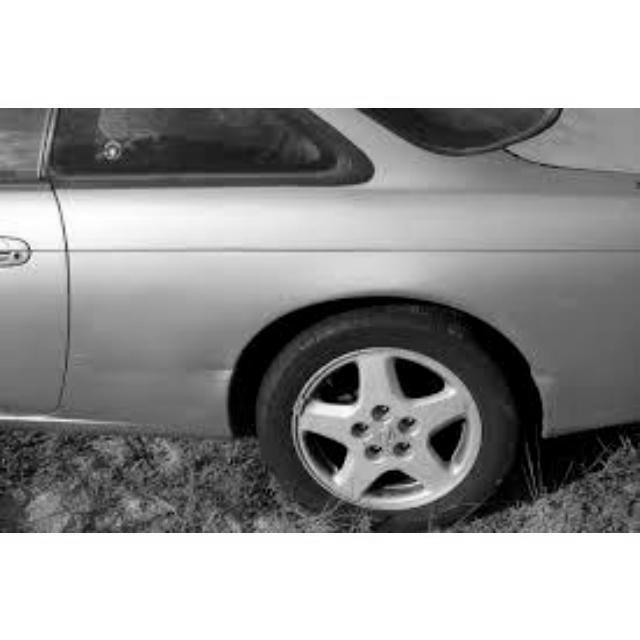quaterpanel-dent: (98, 236, 244, 403)
